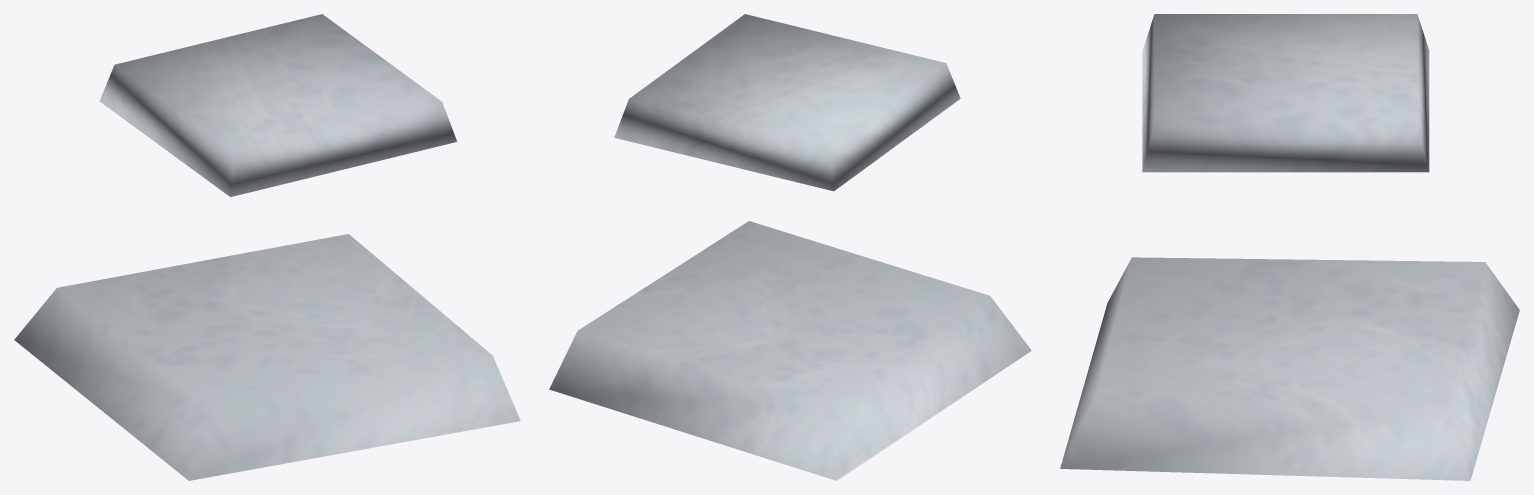
File: Wood_Box_2_Snow.fbx
3 renders of one model, left to right at view 1: azimuth 30°, elevation 25°; view 2: azimuth 150°, elevation 25°; view 3: azimuth 270°, elevation 25°, orthographic. The views are drawn at different scales.
Visible parts, largest first — view 1: Wood_Box_2_Snow; view 2: Wood_Box_2_Snow; view 3: Wood_Box_2_Snow.
Boxes of the visible parts, x1,y1,x2,y2 form: Wood_Box_2_Snow: (14,14,520,480); Wood_Box_2_Snow: (549,14,1031,480); Wood_Box_2_Snow: (1060,14,1519,480).
Size of the model in its own units: 107 by 91.21 by 117.
